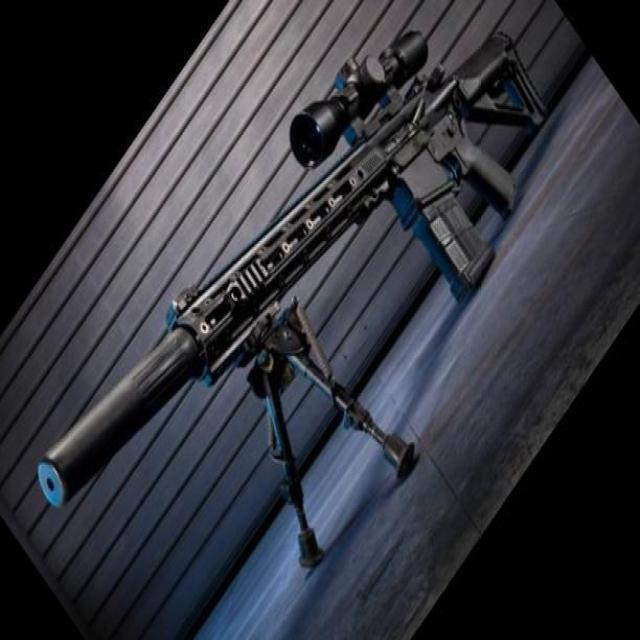Rifle: (38, 28, 548, 568)
